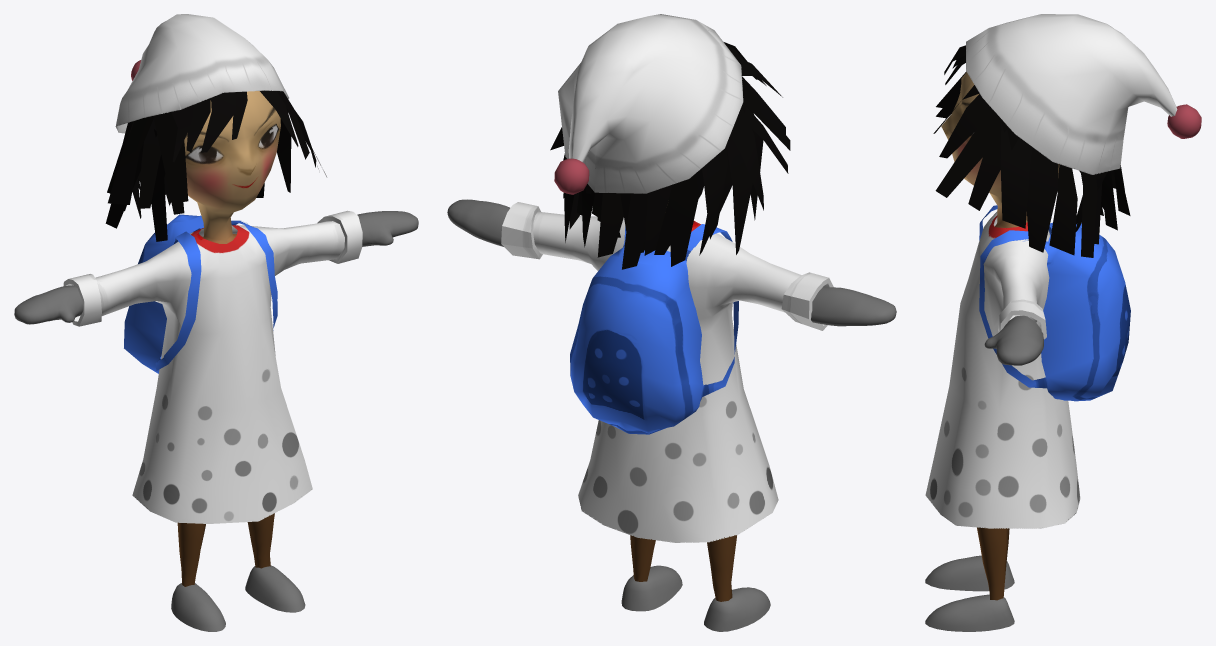
3 renders of one model, left to right at view 1: azimuth 30°, elevation 25°; view 2: azimuth 150°, elevation 25°; view 3: azimuth 270°, elevation 25°, orthographic. The views are drawn at different scales.
Parts seen in each view (by area): view 1: Extract3, Plane032, Plane038, Plane033, Plane044, Plane034, Plane036, Plane005, Plane045, Plane002, Plane037, Plane004 (+7 smaller); view 2: Extract3, Plane032, Plane033, Plane044, Plane036, Plane009, Plane045, Plane034, Plane006, Plane037, Plane010, Plane007 (+7 smaller); view 3: Extract3, Plane032, Plane033, Plane034, Plane016, Plane015, Plane045, Plane017, Plane036, Plane014, Plane035, Plane038 (+6 smaller).
Part boxes in pixels (<box>): Extract3: <box>63,210,362,523</box>; Plane032: <box>115,14,288,133</box>; Plane038: <box>184,91,280,243</box>; Plane033: <box>124,214,277,373</box>; Plane044: <box>14,285,83,324</box>; Plane034: <box>245,565,305,612</box>; Plane036: <box>171,583,225,631</box>; Plane005: <box>108,116,153,204</box>; Plane045: <box>357,211,418,246</box>; Plane002: <box>153,112,184,214</box>; Plane037: <box>177,522,205,586</box>; Plane004: <box>139,118,161,208</box>; Extract3: <box>501,202,833,542</box>; Plane032: <box>558,14,743,193</box>; Plane033: <box>570,224,738,434</box>; Plane044: <box>811,287,896,326</box>; Plane036: <box>704,587,770,631</box>; Plane009: <box>669,174,698,266</box>; Plane045: <box>447,199,509,246</box>; Plane034: <box>621,565,682,611</box>; Plane006: <box>726,135,752,254</box>; Plane037: <box>707,535,736,601</box>; Plane010: <box>622,193,647,269</box>; Plane007: <box>702,145,727,239</box>; Extract3: <box>925,211,1080,528</box>; Plane032: <box>966,14,1177,174</box>; Plane033: <box>979,205,1130,401</box>; Plane034: <box>925,594,1014,631</box>; Plane016: <box>1000,123,1032,228</box>; Plane015: <box>1027,147,1058,252</box>; Plane045: <box>984,315,1043,365</box>; Plane017: <box>935,107,1008,197</box>; Plane036: <box>925,555,1014,591</box>; Plane014: <box>1049,164,1077,255</box>; Plane035: <box>977,527,1009,600</box>; Plane038: <box>941,72,1059,227</box>.
Size of the model in its own units: 3.15 by 1.77 by 4.13.
Materials: 8 (4 with a texture image).
